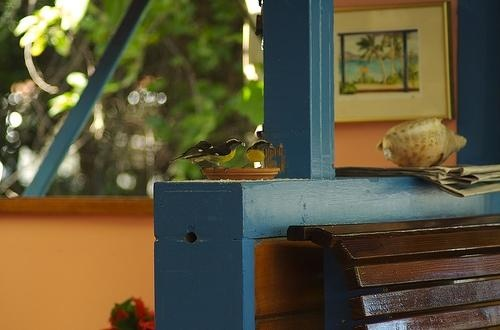bird: (185, 132, 247, 171), (171, 139, 213, 169), (245, 140, 275, 168)
